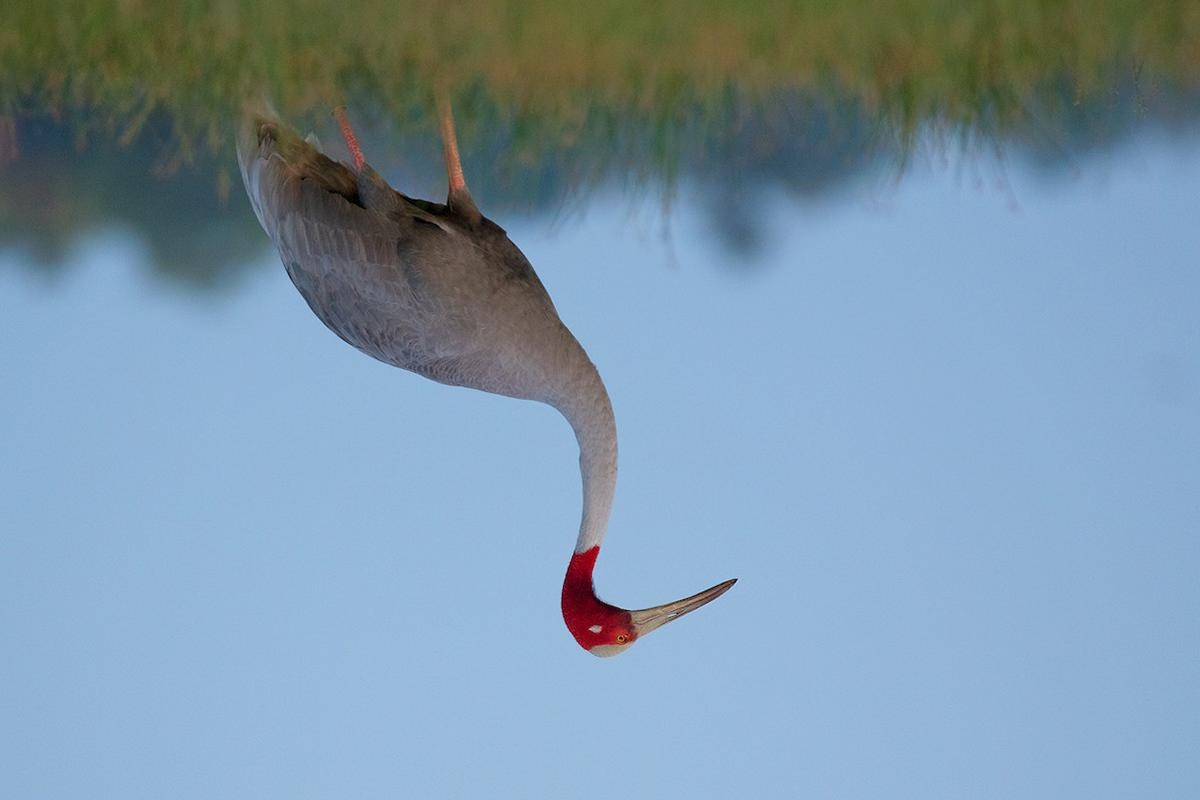crane: (227, 48, 753, 674)
